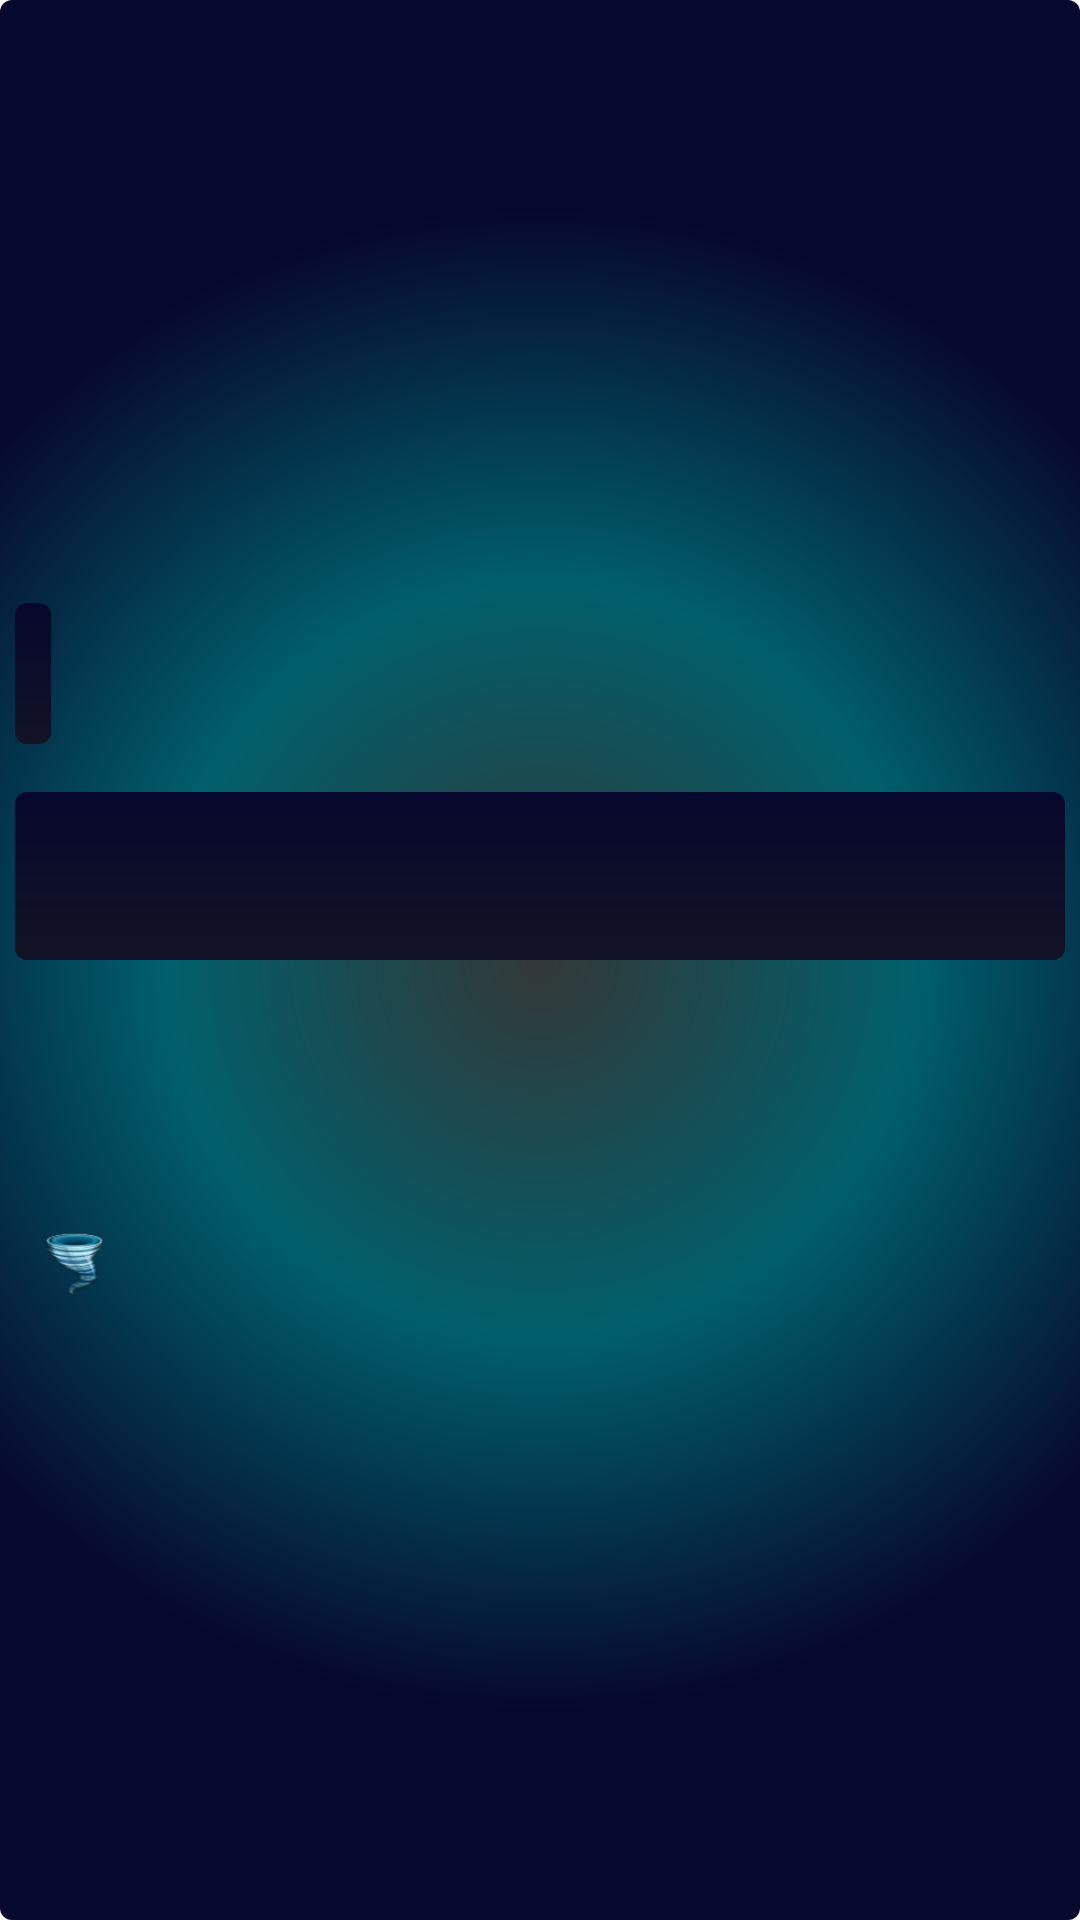

Screen size 1080*1920. Icon name, then its box in pixels as bbox=(x1, y1, x2, y2):
Wind: bbox=(46, 1234, 103, 1295)
